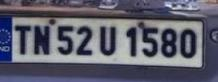0: (178, 28, 198, 59)
1: (124, 25, 140, 57)
2: (75, 24, 92, 55)
5: (56, 24, 75, 55), (140, 27, 159, 57)
8: (159, 27, 177, 59)
N: (32, 24, 51, 55)
T: (12, 24, 31, 54)
U: (98, 24, 117, 55)
